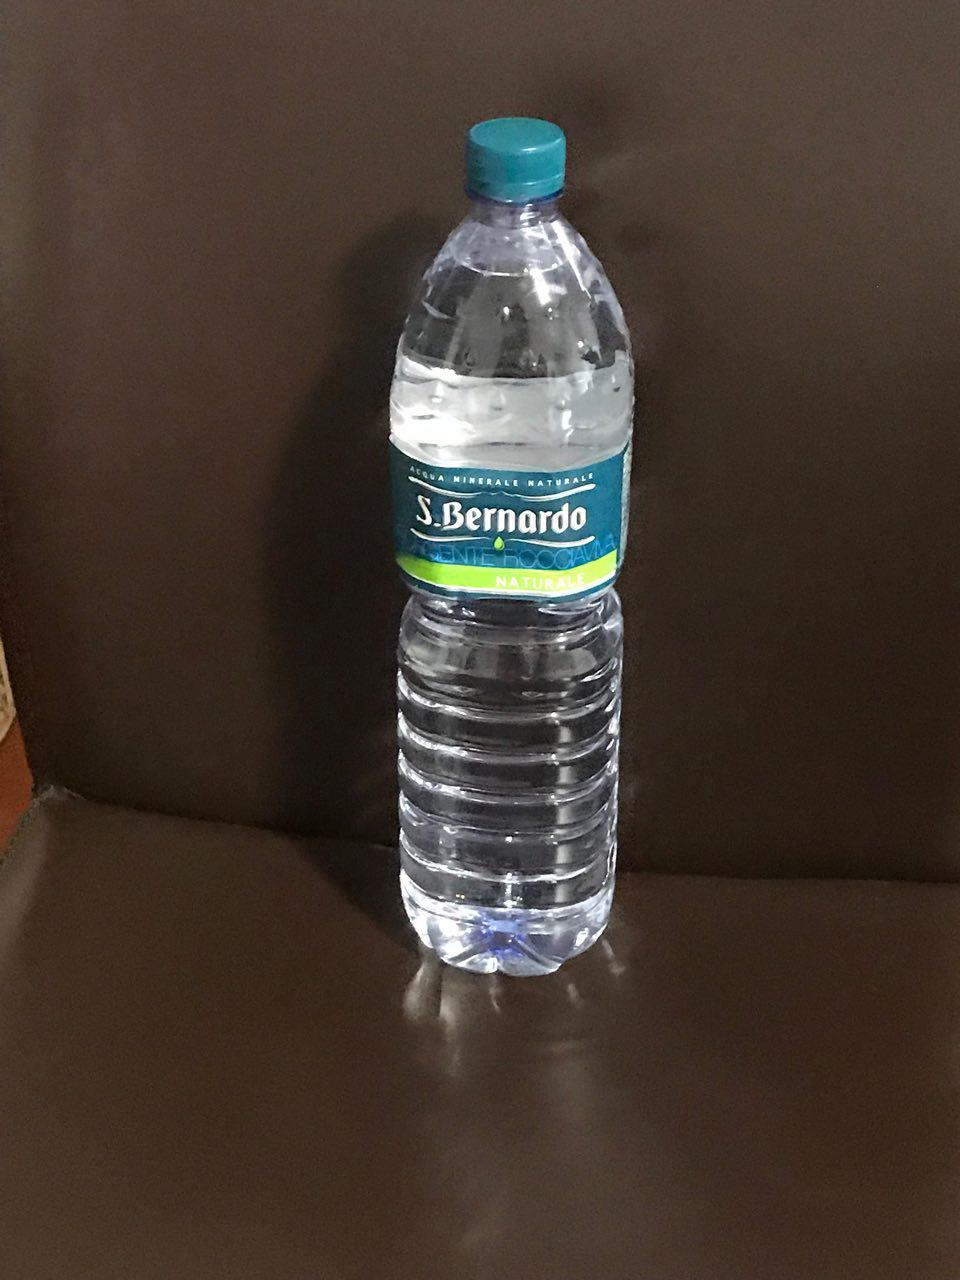san_bernardo: (387, 119, 635, 978)
